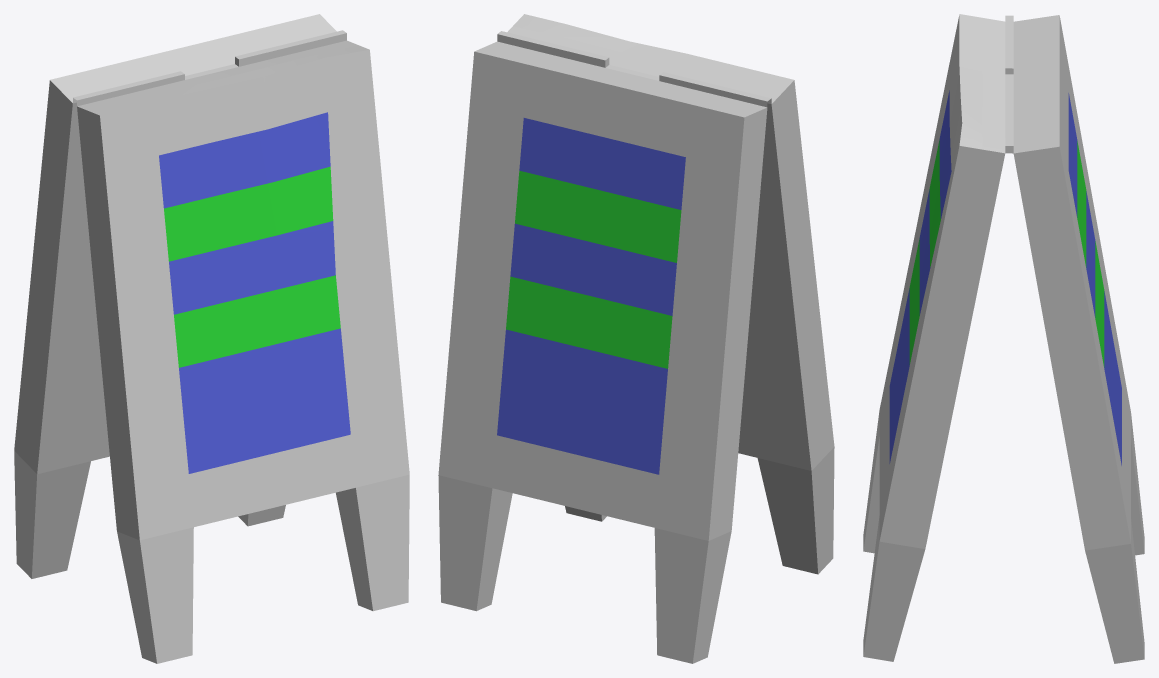
File: AFrame_HT.fbx
3 views of the same model, side by side, from view 1: azimuth 30°, elevation 25°; view 2: azimuth 150°, elevation 25°; view 3: azimuth 270°, elevation 25° (orthographic).
Parts seen in each view (by area): view 1: AFrame_HT; view 2: AFrame_HT; view 3: AFrame_HT.
Boxes of the visible parts, x1=… form: AFrame_HT: x1=14, y1=14, x2=409, y2=663; AFrame_HT: x1=438, y1=14, x2=834, y2=663; AFrame_HT: x1=863, y1=14, x2=1144, y2=663.
Size of the model in its own units: 74.16 by 138 by 66.84.
